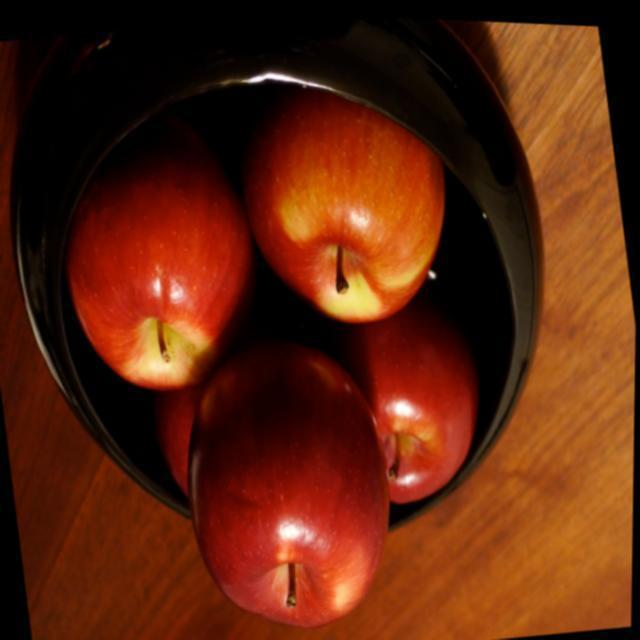Apple: (190, 344, 390, 619), (62, 115, 256, 390), (248, 90, 450, 320), (333, 300, 478, 510)
